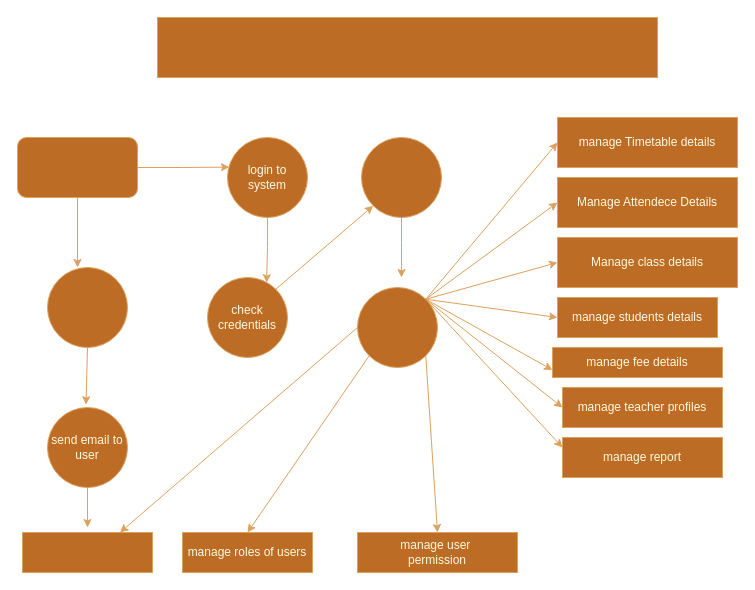
The diagram is 755 pixels wide and 590 high, and some of its shapes have lost their labels. Each missing label, with the box of its shape:
Admin: (16, 136, 138, 198)
check roles of access: (360, 136, 442, 218)
forgot password: (46, 266, 128, 348)
manage modules: (356, 286, 438, 368)
manage system admins: (22, 532, 152, 572)
Student Information System: (156, 16, 658, 78)
